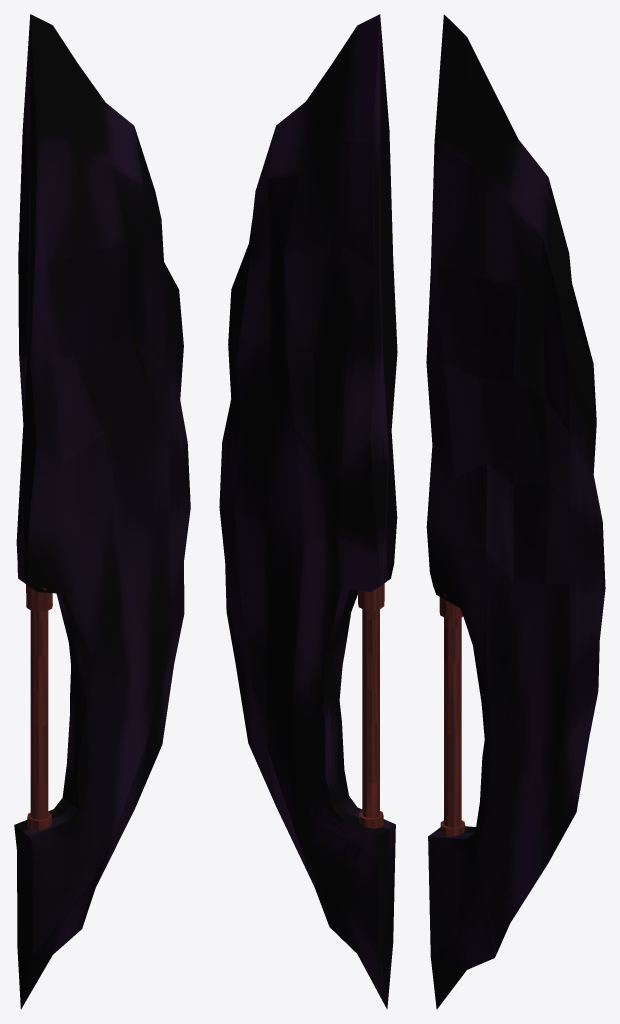
File: blackcumomg.fbx
3 views of the same model, side by side, from view 1: azimuth 30°, elevation 25°; view 2: azimuth 150°, elevation 25°; view 3: azimuth 330°, elevation 25° (orthographic).
Visible parts, largest first — view 1: Cube; view 2: Cube; view 3: Cube.
Boxes of the visible parts, <box> form: Cube: <box>14,14,190,1008</box>; Cube: <box>219,14,397,1009</box>; Cube: <box>426,14,605,1009</box>.
Bounding box in the file's own units: 28.06 × 157 × 7.87.
